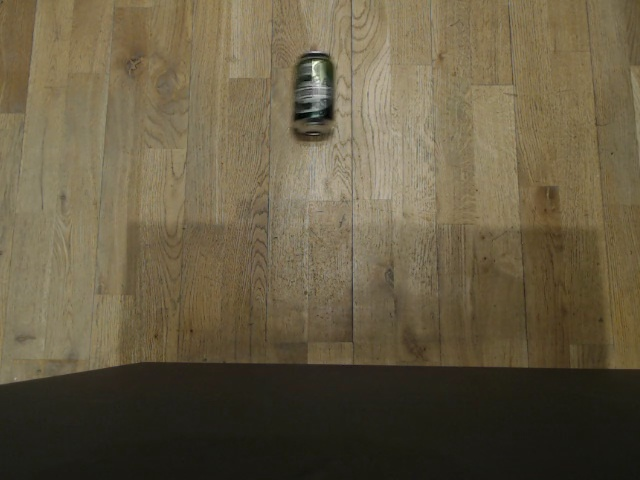beer: (289, 48, 338, 141)
